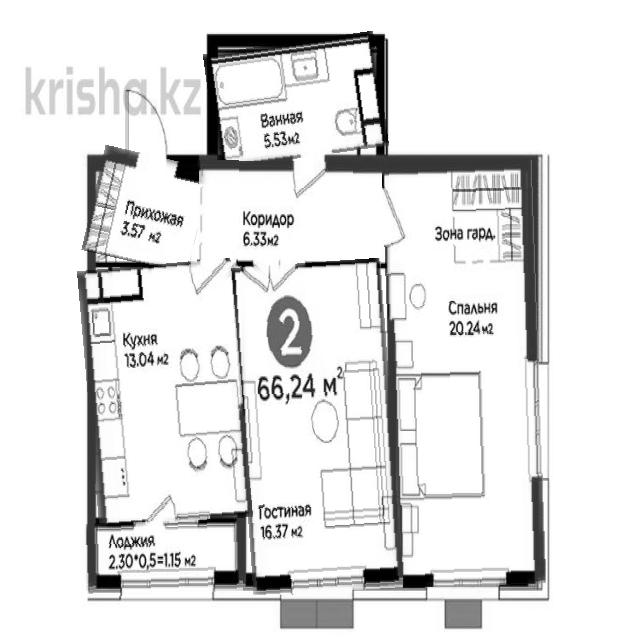balcony: (85, 520, 242, 595)
bathroom: (206, 37, 386, 163)
hallway: (198, 161, 393, 273), (87, 151, 206, 269)
kitchen: (82, 261, 248, 527)
living_room: (386, 161, 542, 587), (236, 261, 398, 595)
